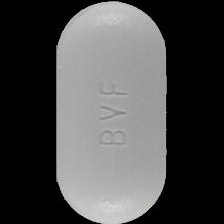68682-101: (0, 0, 224, 224)
